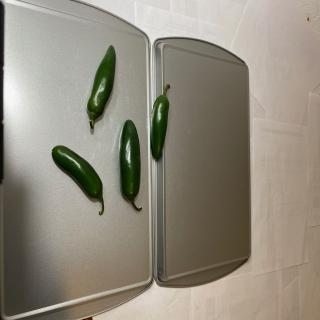Chilli: (51, 144, 104, 216)
Tomato: (86, 45, 116, 129), (119, 119, 142, 211), (150, 84, 170, 160)
